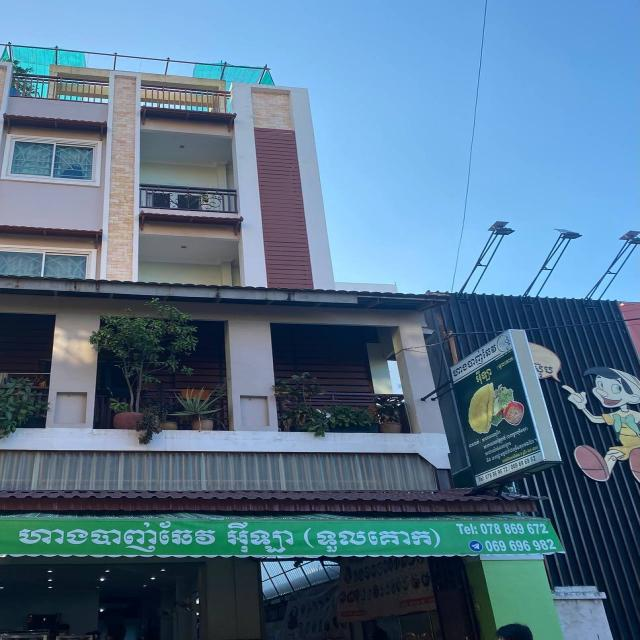2: (11, 522, 450, 558)
27: (471, 520, 556, 536)
361: (481, 538, 563, 554)
Yolov11_80vkh: (451, 340, 500, 382), (471, 363, 497, 387)
